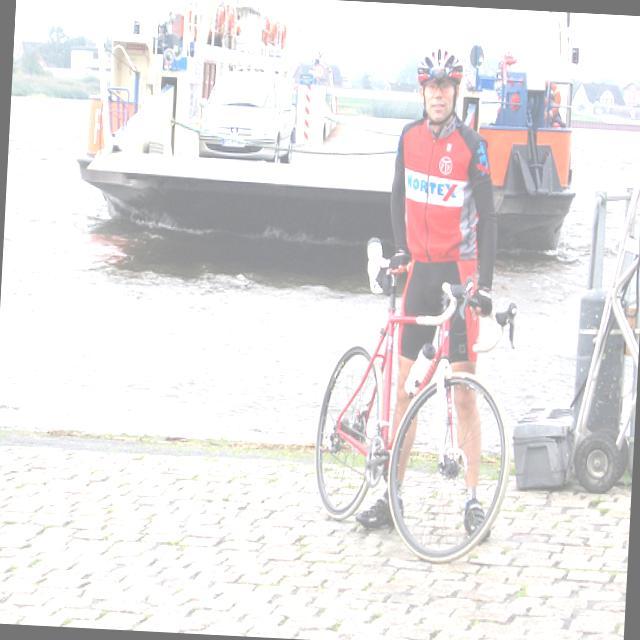Vehicle: (196, 65, 297, 164)
